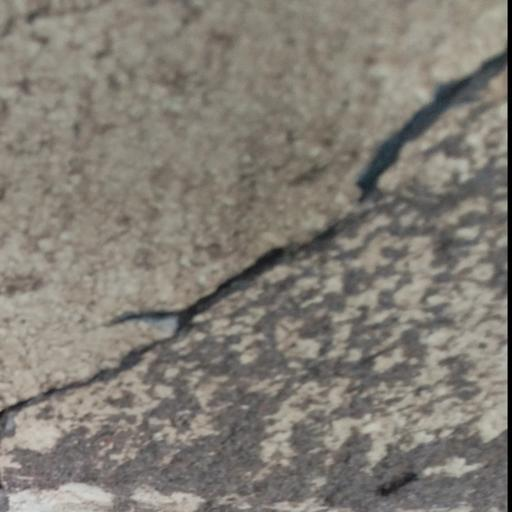major_crack: (0, 30, 512, 433)
